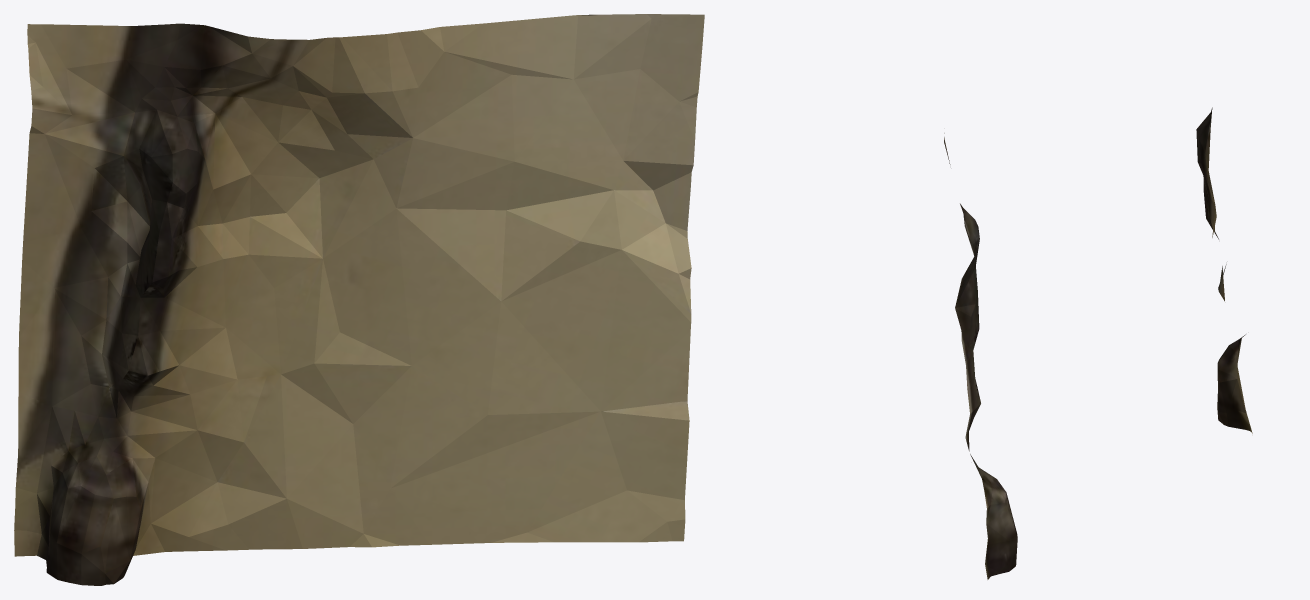
The picture shows the model from 3 angles, left to right: view 1: azimuth 30°, elevation 25°; view 2: azimuth 150°, elevation 25°; view 3: azimuth 270°, elevation 25°; orthographic projection. The views are drawn at different scales.
Bounding box in the file's own units: 0.8374 × 0.8374 × 0.4845.
Materials: 3 (3 with a texture image).
